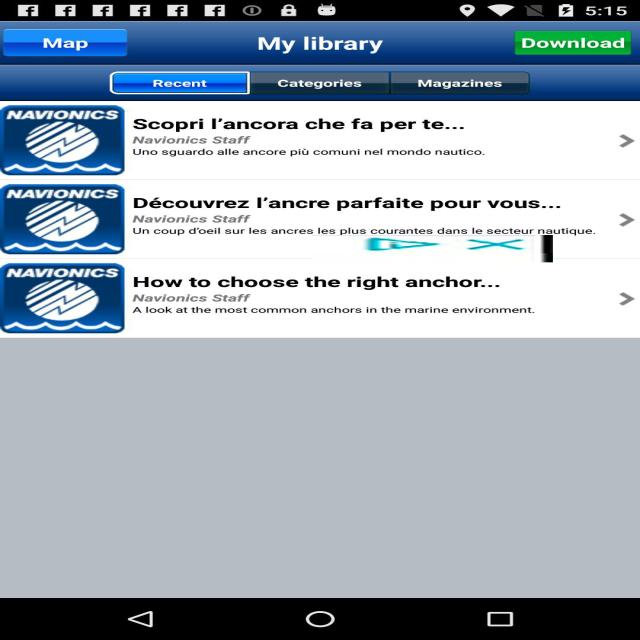sneaking: (312, 235, 553, 262)
